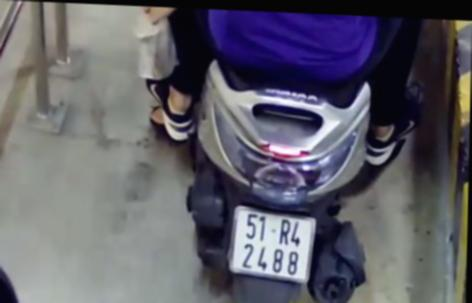License_Plate: (219, 197, 323, 290)
